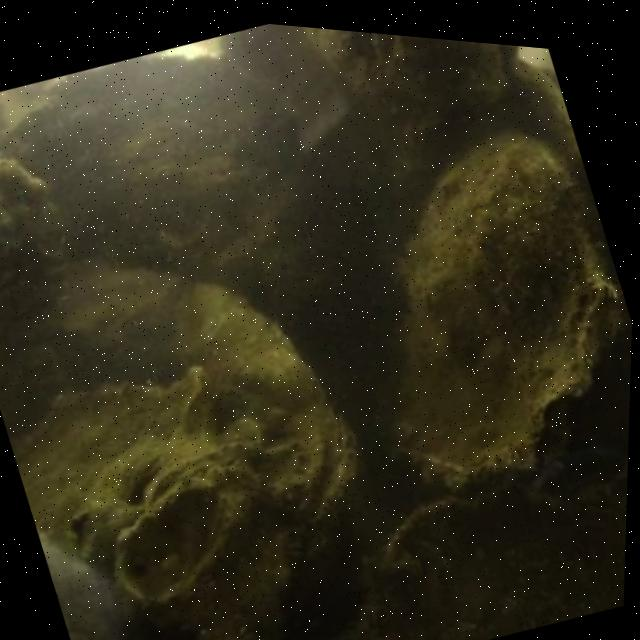Oyster-Closed: (382, 126, 615, 486)
Oyster-Indeterminate: (58, 270, 356, 640), (0, 47, 297, 272), (25, 367, 263, 629), (0, 157, 86, 444), (308, 27, 527, 100)
